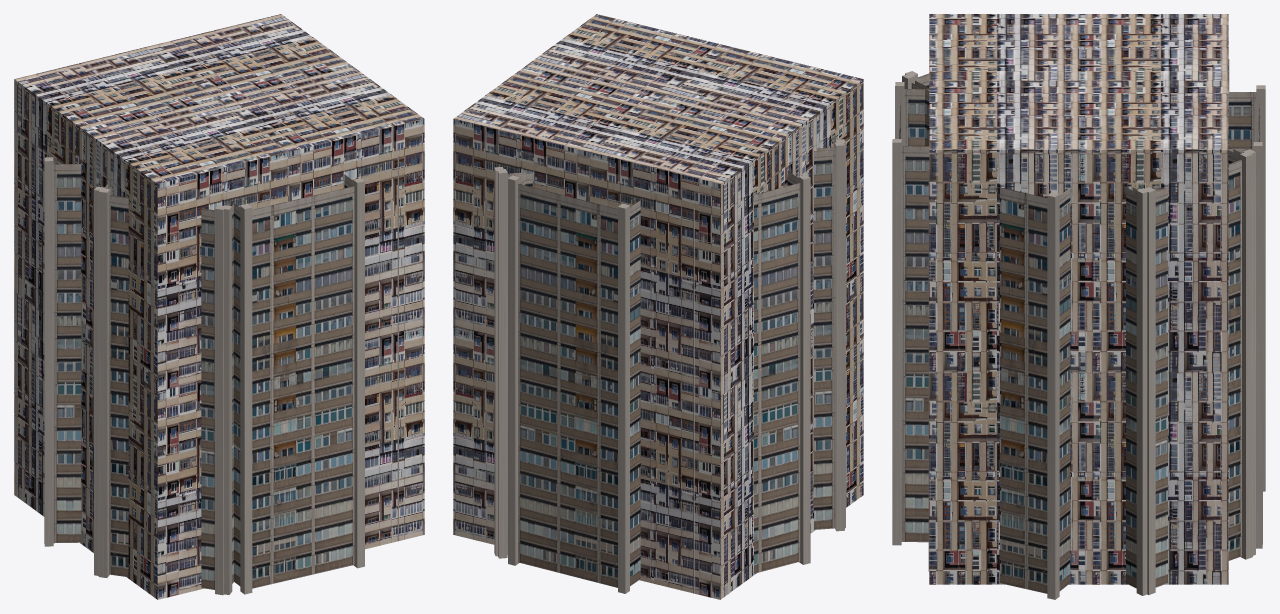
The model's file is city-kit.glb.
3 views of the same model, side by side, from view 1: azimuth 30°, elevation 25°; view 2: azimuth 150°, elevation 25°; view 3: azimuth 270°, elevation 25° (orthographic). The views are drawn at different scales.
Parts seen in each view (by area): view 1: c8-32, c7-18, c7-20, c7-21, c7-19; view 2: c8-32, c7-18, c7-21, c7-19, c7-20; view 3: c8-32, c7-21, c7-18, c7-19, c7-20.
Boxes of the visible parts, x1=… form: c8-32: x1=14, y1=14, x2=424, y2=599; c7-18: x1=232, y1=174, x2=364, y2=594; c7-20: x1=98, y1=186, x2=235, y2=594; c7-21: x1=44, y1=140, x2=398, y2=546; c7-19: x1=94, y1=184, x2=229, y2=595; c8-32: x1=453, y1=14, x2=863, y2=599; c7-18: x1=508, y1=173, x2=640, y2=593; c7-21: x1=693, y1=170, x2=810, y2=593; c7-19: x1=494, y1=137, x2=844, y2=556; c7-20: x1=498, y1=137, x2=845, y2=558; c8-32: x1=929, y1=14, x2=1228, y2=584; c7-21: x1=928, y1=59, x2=1229, y2=599; c7-18: x1=892, y1=82, x2=1265, y2=548; c7-19: x1=905, y1=71, x2=1252, y2=595; c7-20: x1=902, y1=74, x2=1255, y2=594.
Size of the model in its own units: 37.45 by 45.53 by 35.44.
21 materials, 20 textured.
